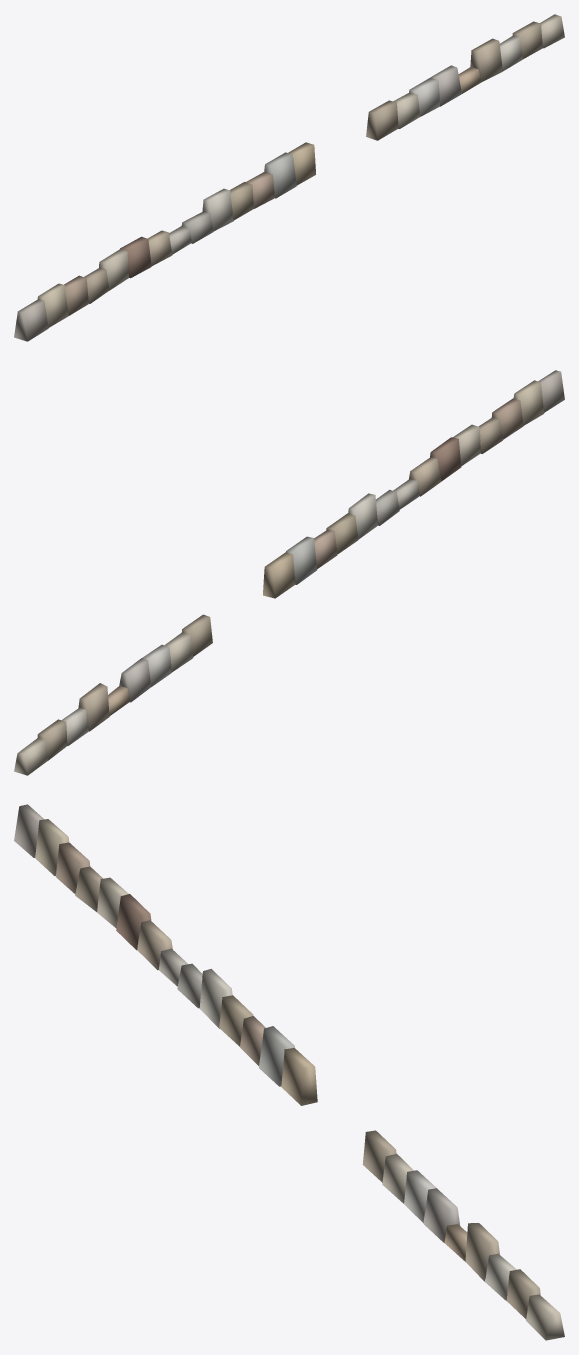
The model's file is farm_5_14_far.glb.
3 renders of one model, top to bottom at view 1: azimuth 30°, elevation 25°; view 2: azimuth 210°, elevation 25°; view 3: azimuth 270°, elevation 25°, orthographic. The views are drawn at different scales.
Parts seen in each view (by area): view 1: geometry_0; view 2: geometry_0; view 3: geometry_0.
Part boxes in pixels (<box>): geometry_0: <box>14,14,564,341</box>; geometry_0: <box>14,370,564,775</box>; geometry_0: <box>14,804,564,1340</box>.
Bounding box in the file's own units: 36.83 × 3.04 × 18.67.
